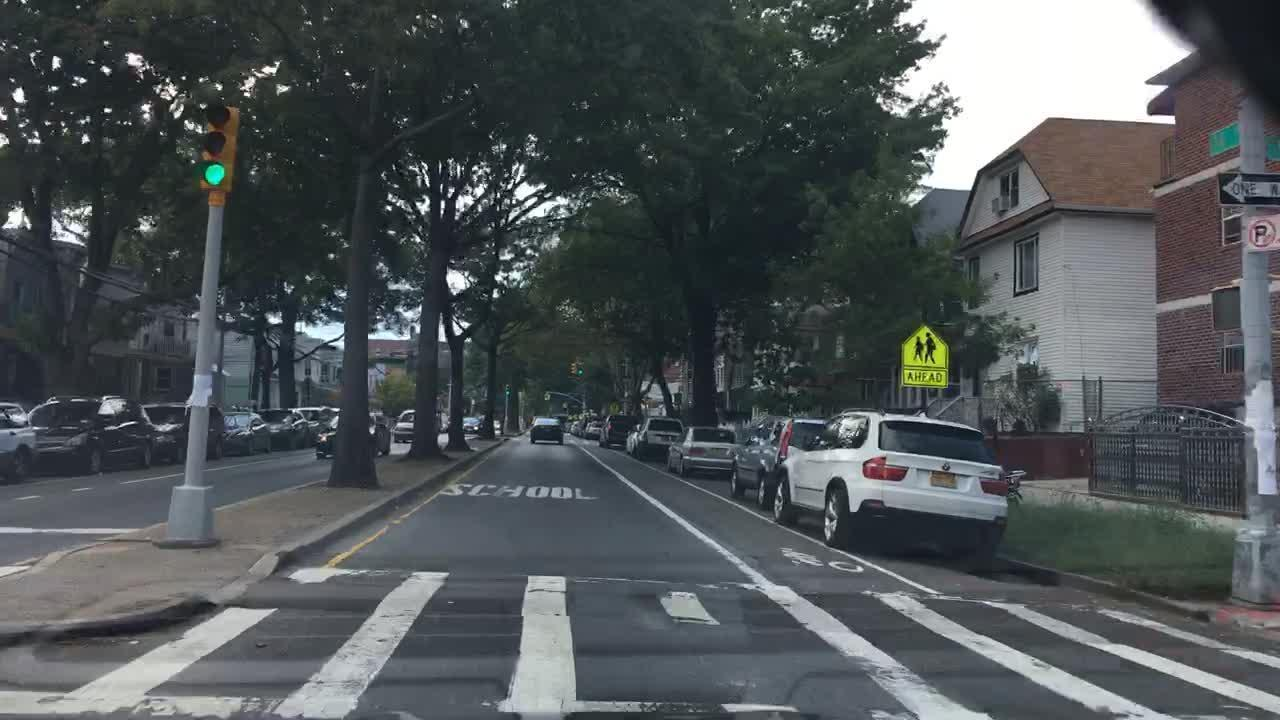bmw: (936, 457, 959, 476)
